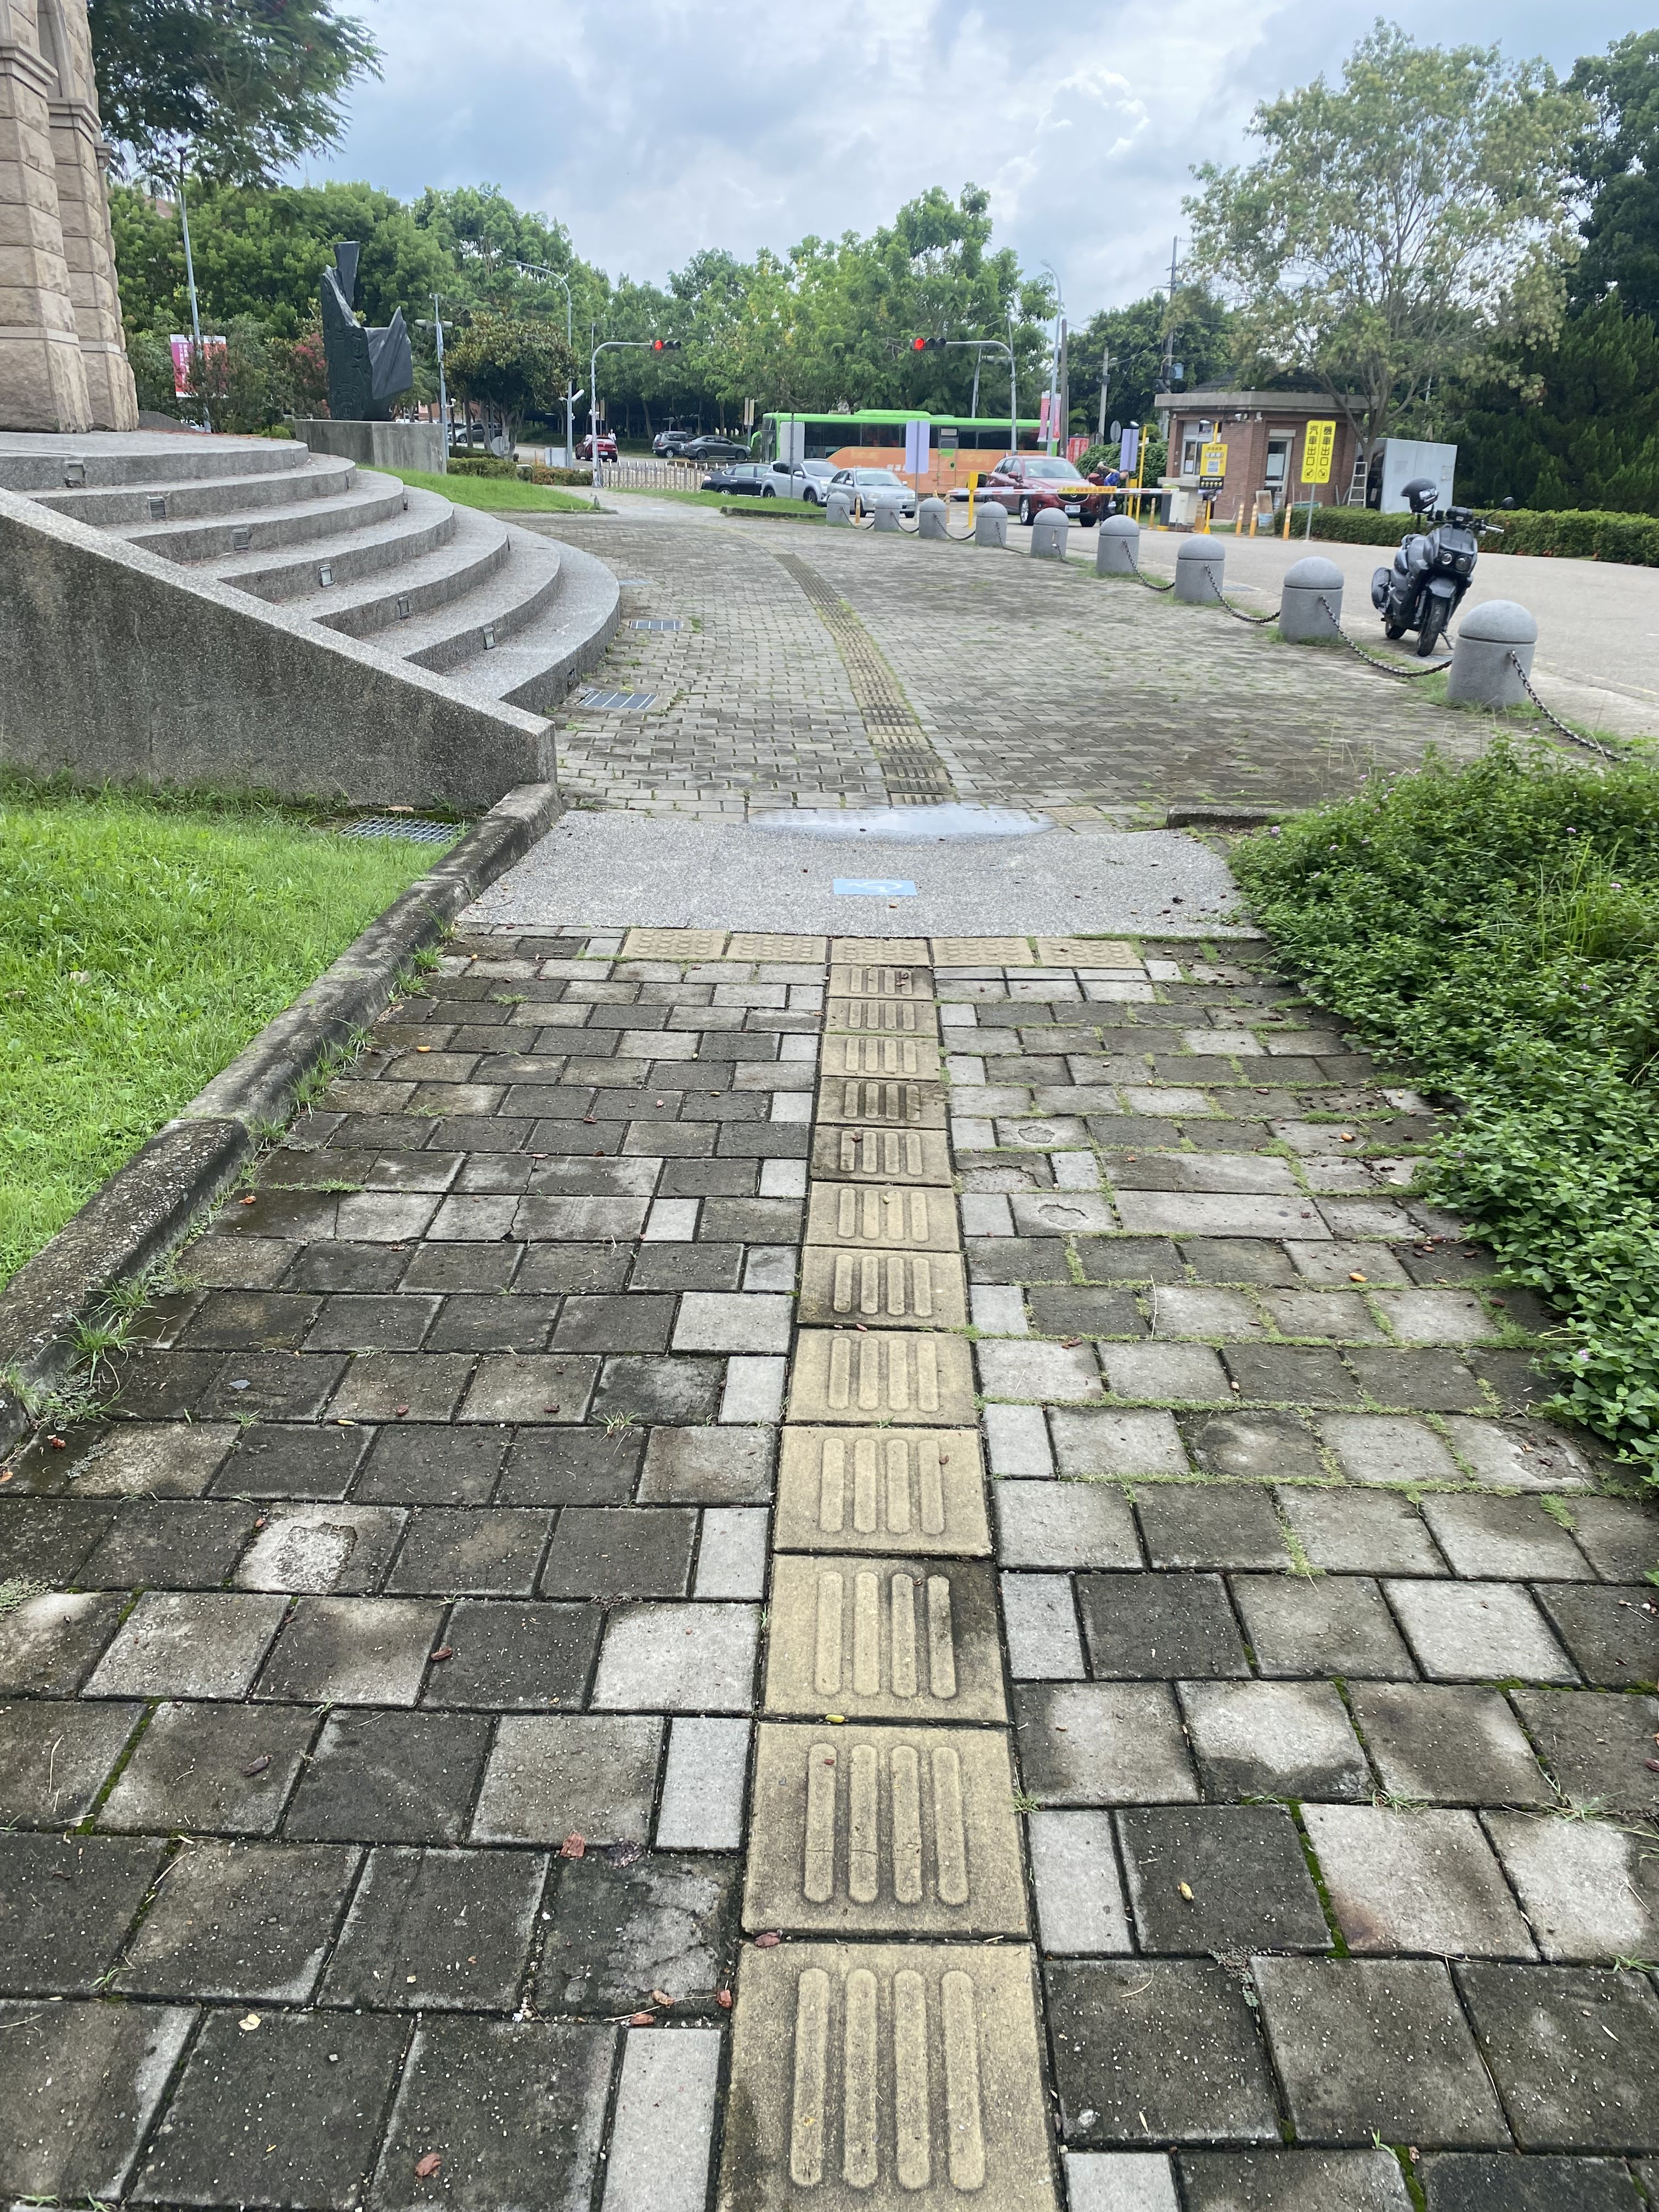0: (7, 853, 1659, 2212)
sidewalk: (375, 482, 1539, 1139)
